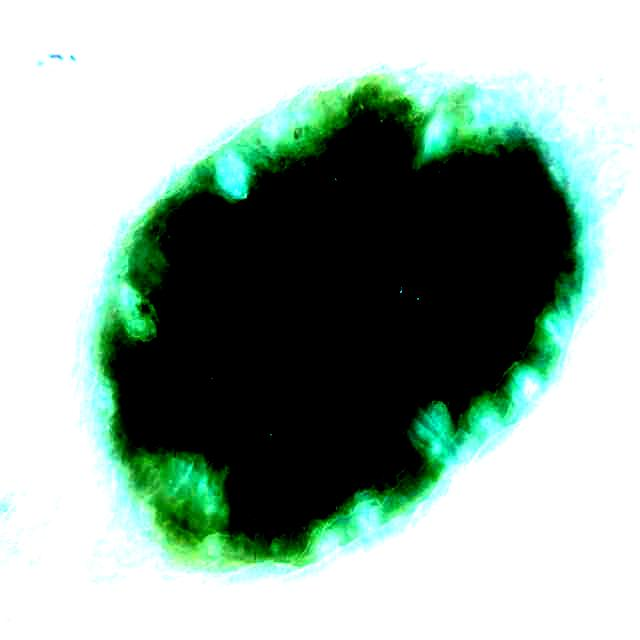BKL: (101, 73, 579, 565)
